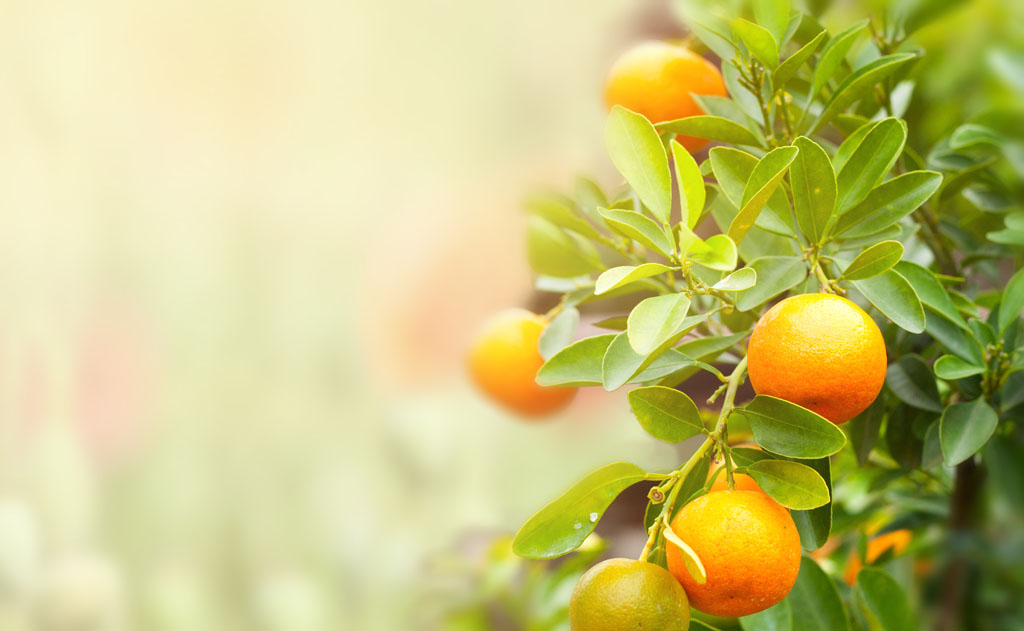orange: (662, 487, 801, 621), (749, 295, 886, 429), (601, 43, 731, 160), (464, 307, 583, 417), (571, 554, 688, 631)
